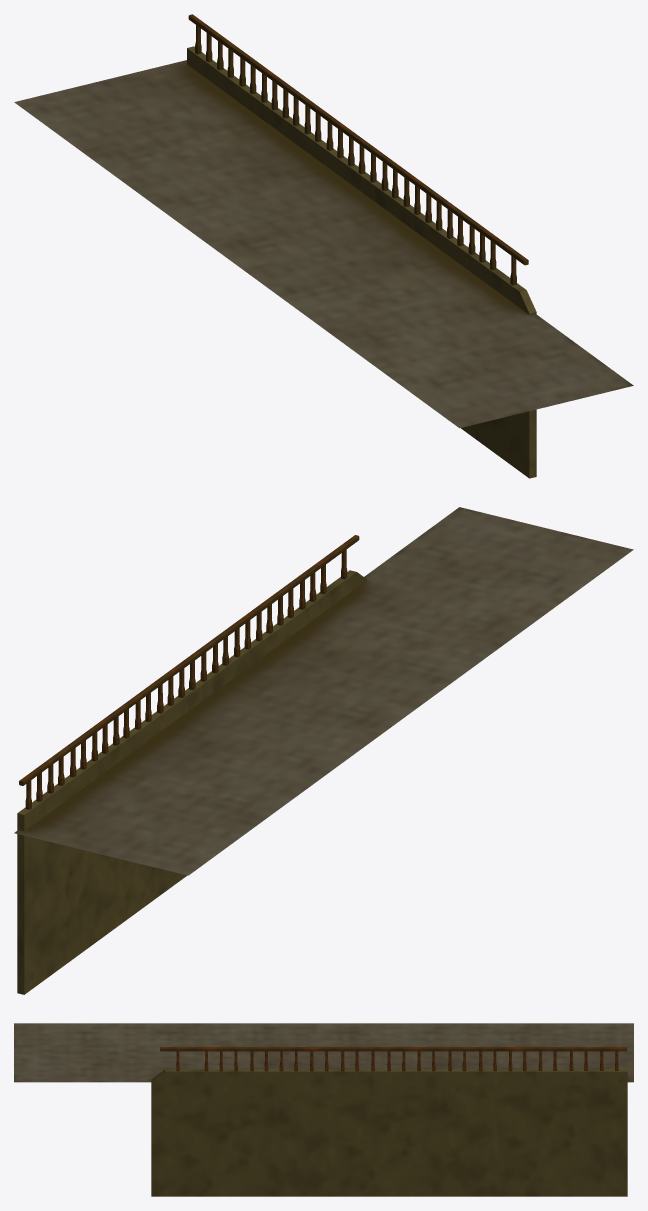
The model's file is Library_Ladder_Floor.fbx.
3 views of the same model, one above another, from view 1: azimuth 30°, elevation 25°; view 2: azimuth 150°, elevation 25°; view 3: azimuth 270°, elevation 25° (orthographic). The views are drawn at different scales.
Parts seen in each view (by area): view 1: Library_Ladder_Floor; view 2: Library_Ladder_Floor; view 3: Library_Ladder_Floor.
Part boxes in pixels (left/top/right/bottom): Library_Ladder_Floor: left=14, top=14, right=633, bottom=478; Library_Ladder_Floor: left=14, top=507, right=633, bottom=994; Library_Ladder_Floor: left=14, top=1023, right=633, bottom=1196.
Bounding box in the file's own units: 450 × 521 × 1977.
1 material, 1 textured.
